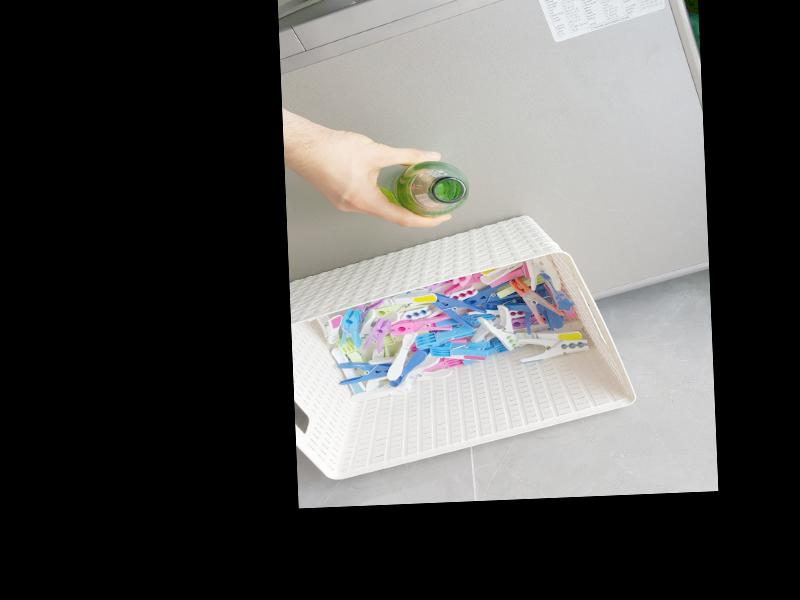Beer: (389, 159, 470, 218)
